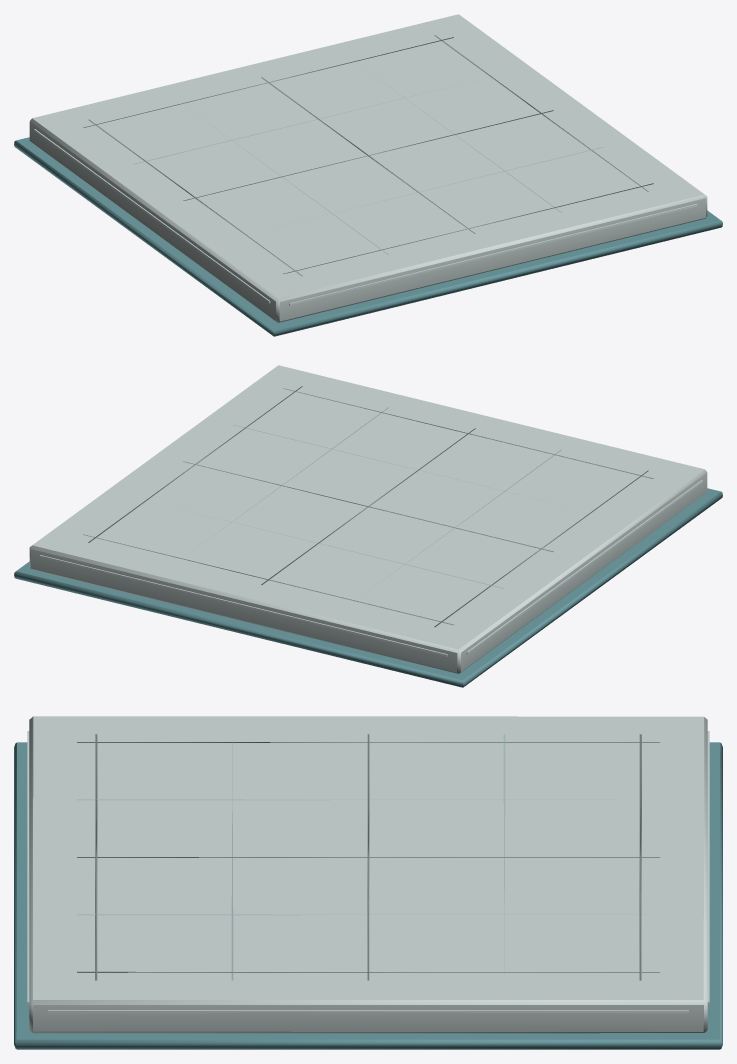
The model's file is plaza.lod.glb.
3 renders of one model, top to bottom at view 1: azimuth 30°, elevation 25°; view 2: azimuth 150°, elevation 25°; view 3: azimuth 270°, elevation 25°, orthographic. The views are drawn at different scales.
Visible parts, largest first — view 1: plaza; view 2: plaza; view 3: plaza.
Part boxes in pixels (box(x1,y1,x2,y2)): plaza: box(14, 14, 722, 336); plaza: box(14, 365, 722, 687); plaza: box(14, 716, 722, 1049).
Bounding box in the file's own units: 29.19 × 1.99 × 29.19.
